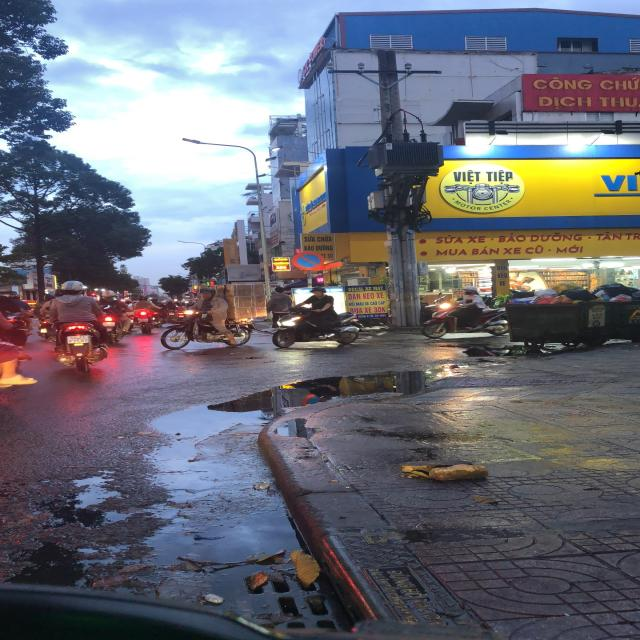Bien bao cam do xe: (289, 251, 329, 273)
